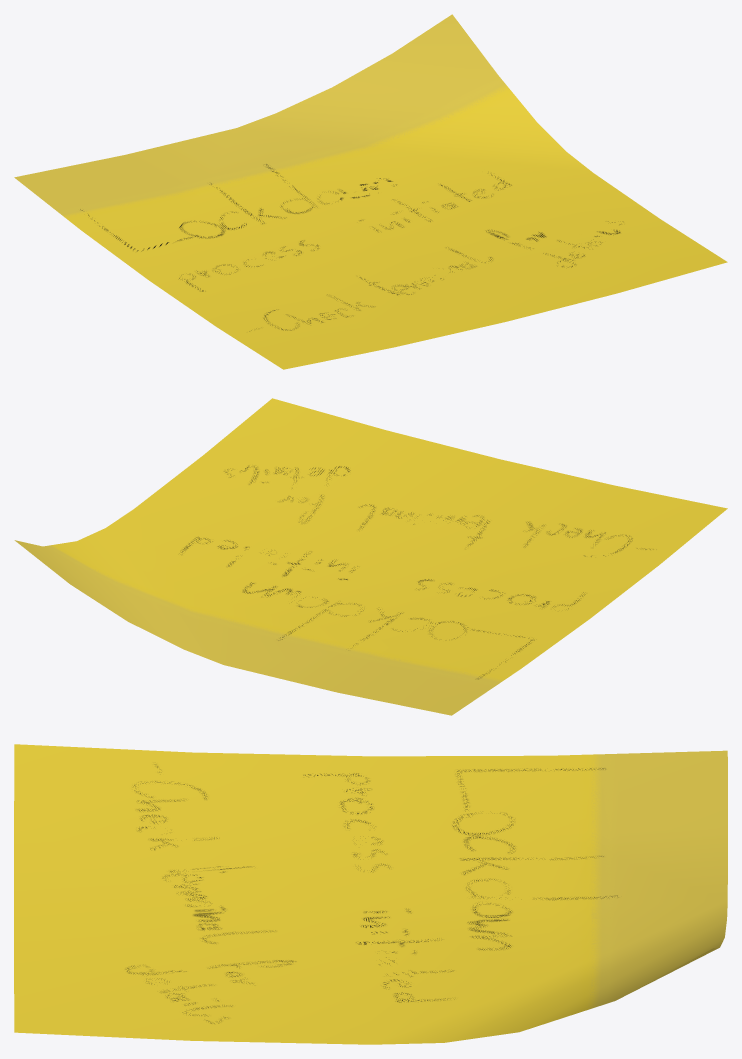
The model's file is notes_upsilon_lockdown.dae.
3 renders of one model, top to bottom at view 1: azimuth 30°, elevation 25°; view 2: azimuth 150°, elevation 25°; view 3: azimuth 270°, elevation 25°, orthographic. The views are drawn at different scales.
Parts seen in each view (by area): view 1: 03; view 2: 03; view 3: 03.
Boxes of the visible parts, x1,y1,x2,y2 form: 03: (14,14,727,369); 03: (14,398,727,715); 03: (14,744,727,1044).
Bounding box in the file's own units: 0.1741 × 0.0271 × 0.1828.
